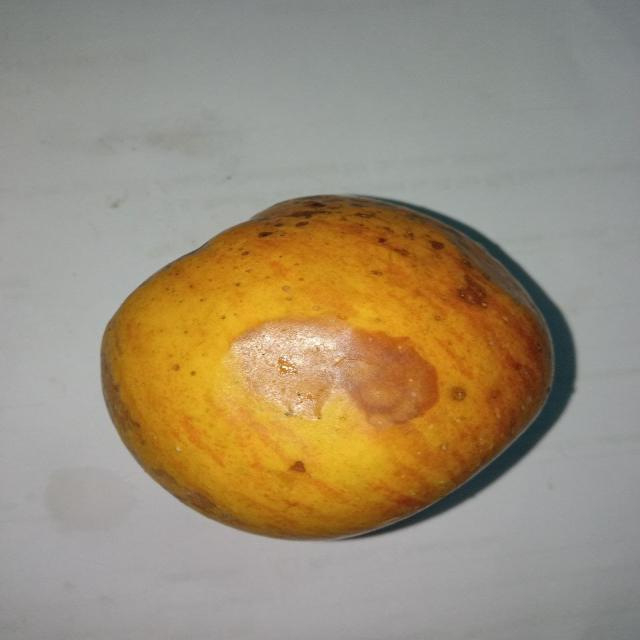rotten_apple: (98, 194, 553, 540)
